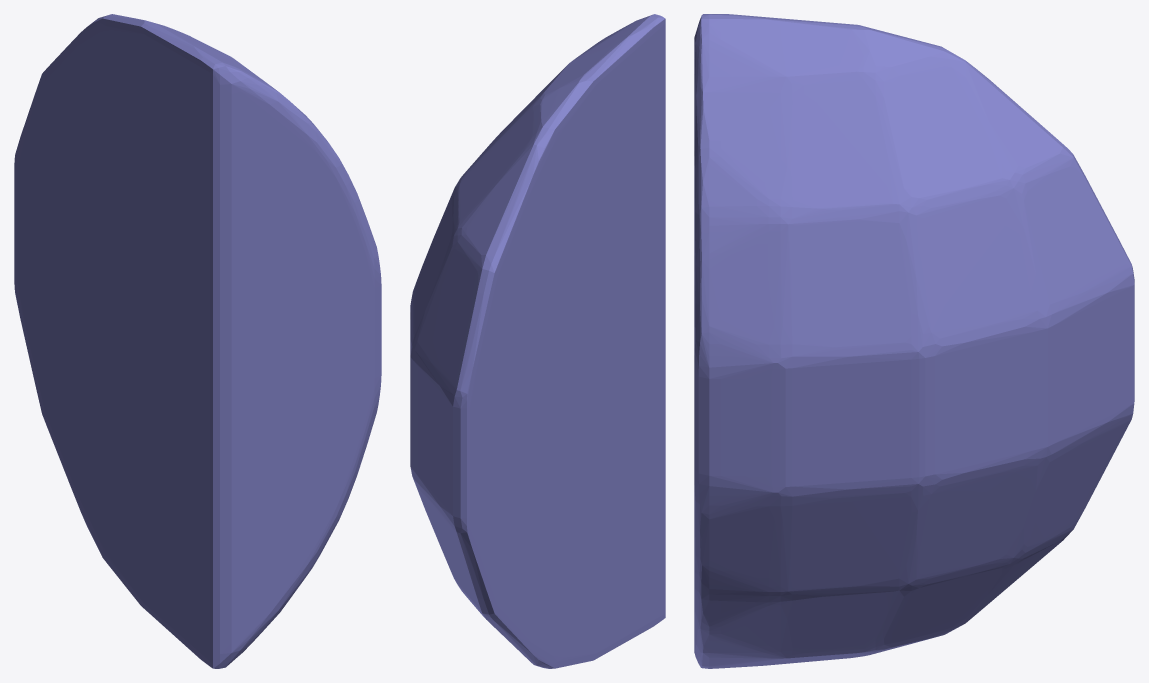
The model's file is right_th_middle_part_12.obj.
3 views of the same model, side by side, from view 1: azimuth 30°, elevation 25°; view 2: azimuth 150°, elevation 25°; view 3: azimuth 270°, elevation 25° (orthographic). The views are drawn at different scales.
Size of the model in its own units: 5.75 by 19.26 by 11.82.
